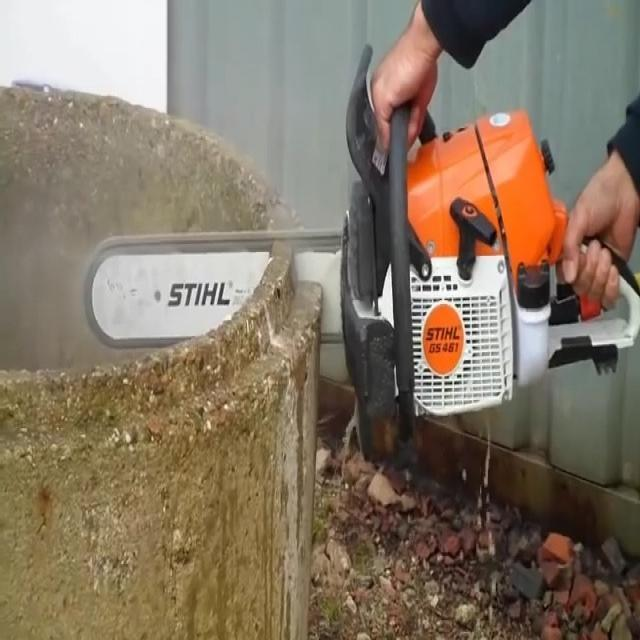Chainsaw: (68, 31, 640, 434)
